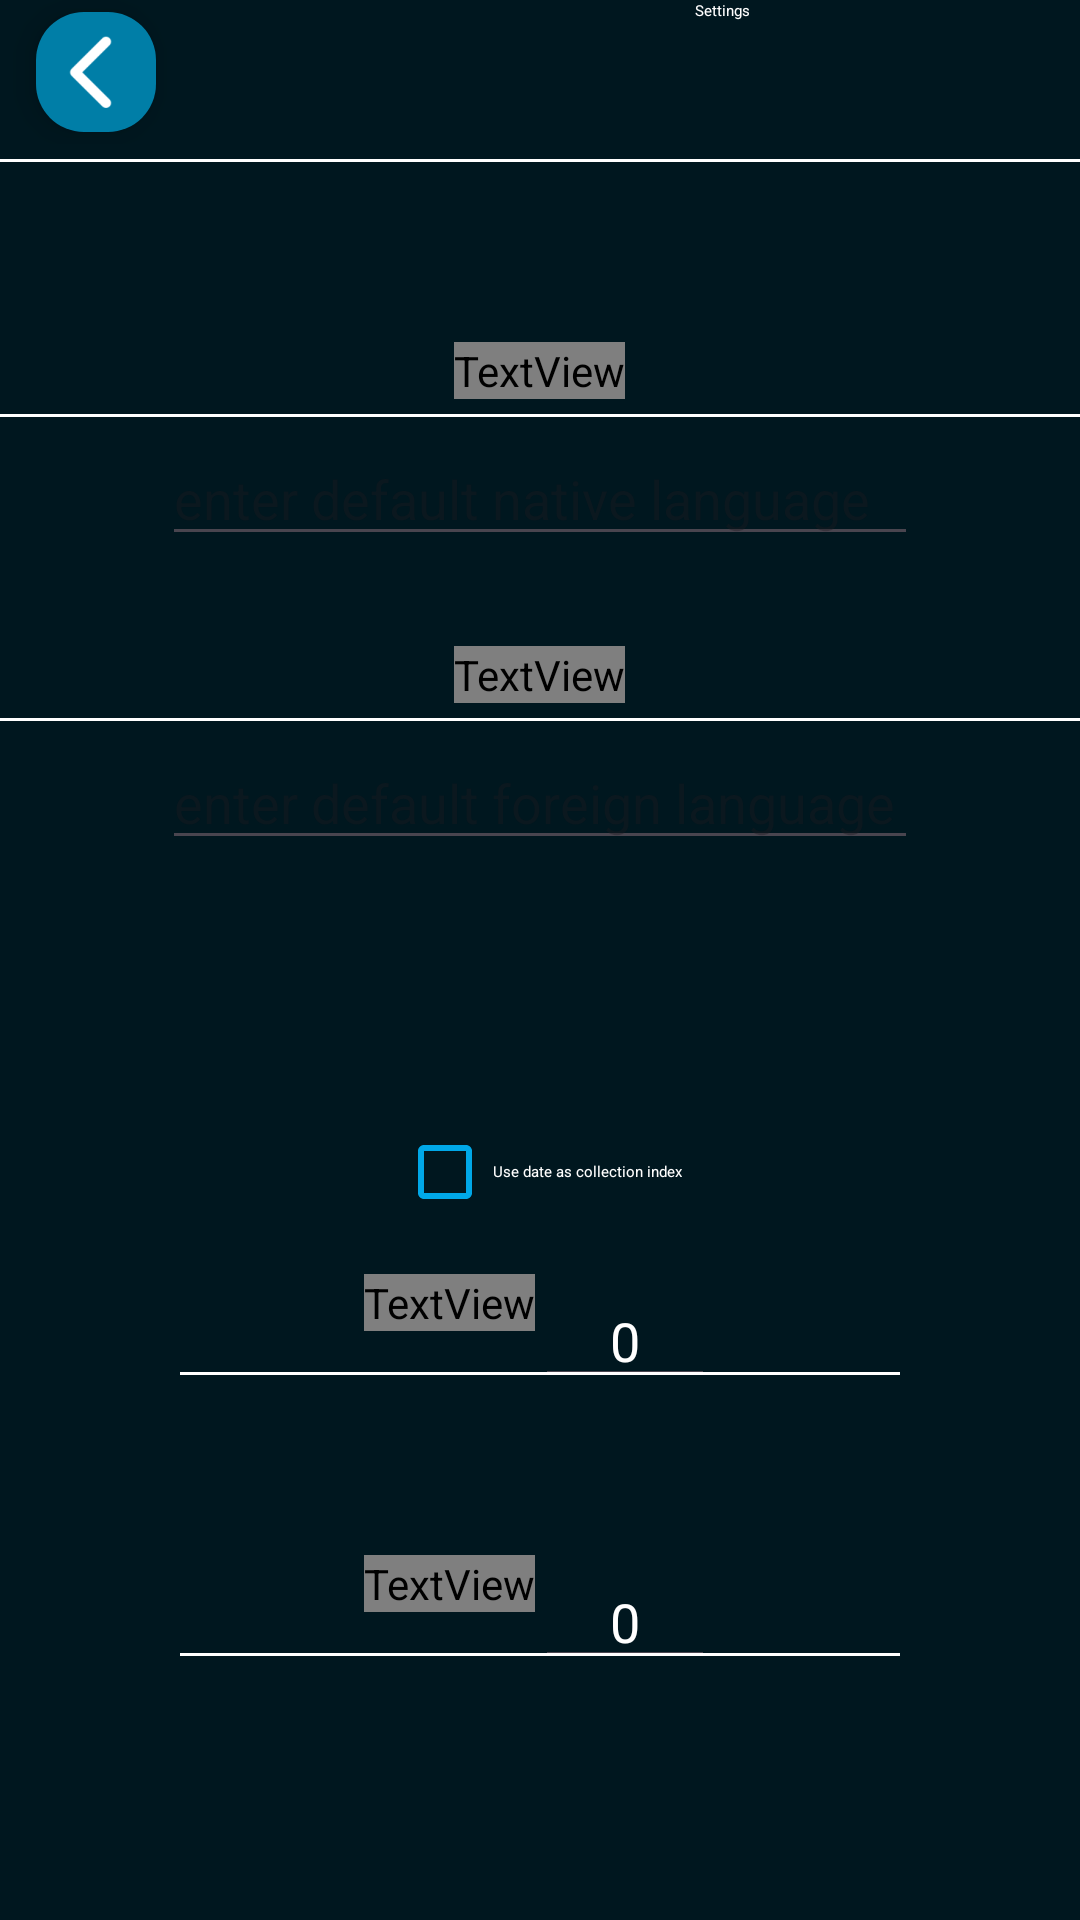

Icon click points for this 1080px x 1920px phone screenshot, format (x=x, y=y):
back: (x=96, y=72)
